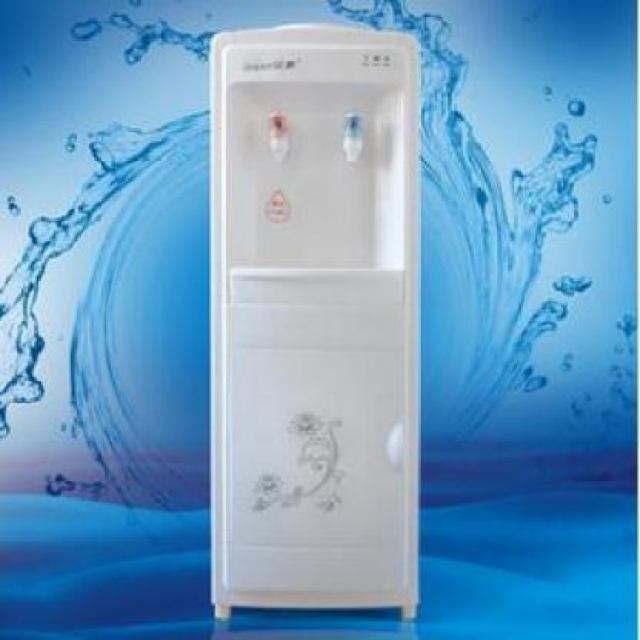cooler: (208, 21, 422, 624)
